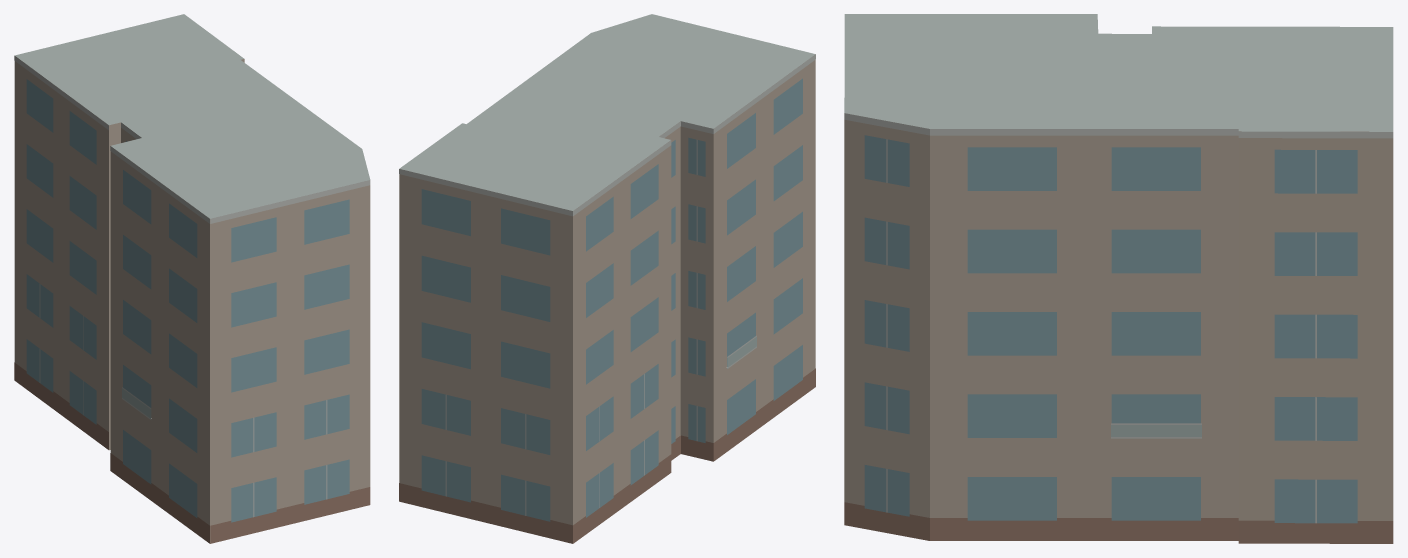
File: survey-upis-32881118.glb
3 renders of one model, left to right at view 1: azimuth 30°, elevation 25°; view 2: azimuth 150°, elevation 25°; view 3: azimuth 270°, elevation 25°, orthographic. The views are drawn at different scales.
Visible parts, largest first — view 1: survey-upis-32881118.tmp; view 2: survey-upis-32881118.tmp; view 3: survey-upis-32881118.tmp.
Part boxes in pixels (<box>): survey-upis-32881118.tmp: <box>14,14,370,543</box>; survey-upis-32881118.tmp: <box>399,14,815,543</box>; survey-upis-32881118.tmp: <box>844,14,1393,543</box>.
Bounding box in the file's own units: 9.4 × 15.25 × 18.43.
